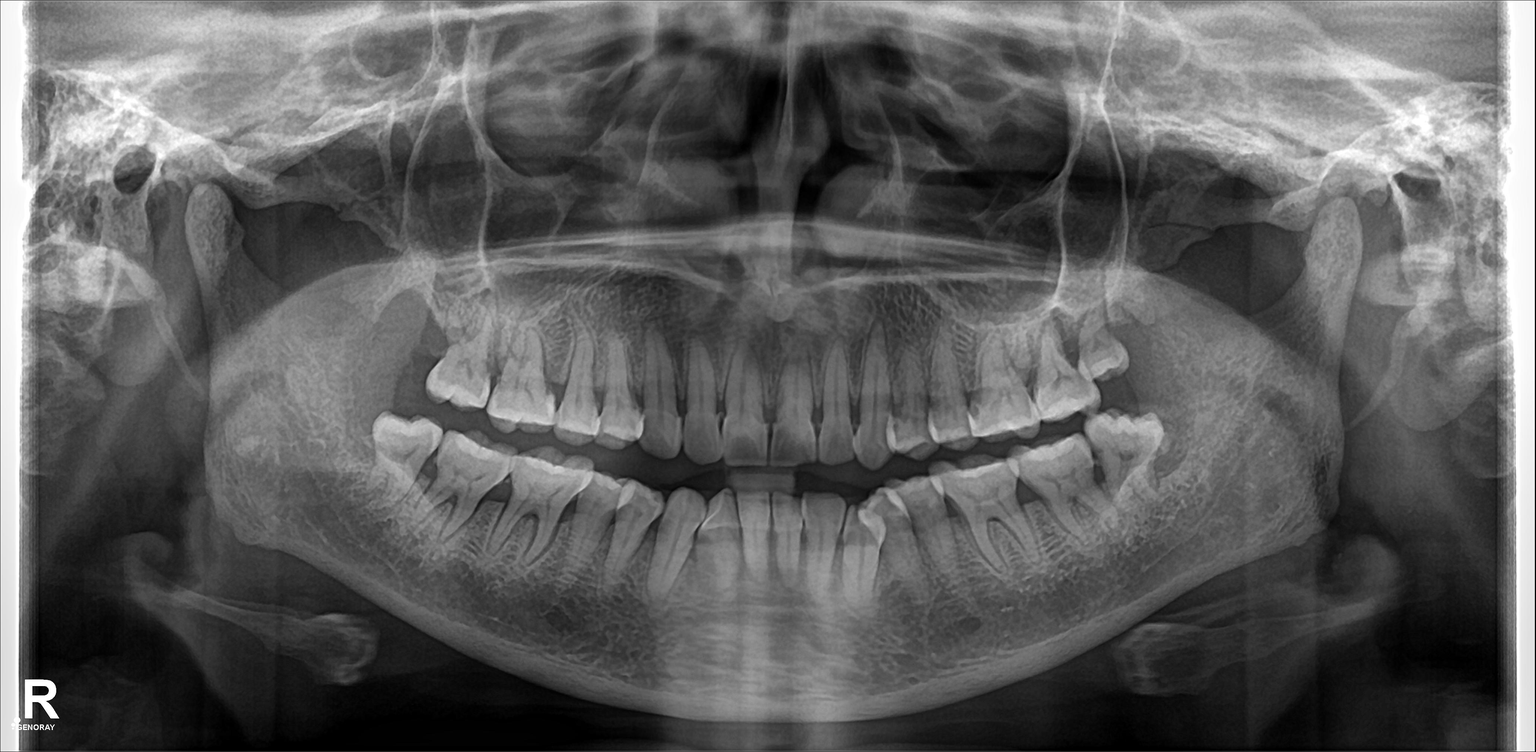Dental Caries: (723, 436, 758, 463)
Impacted Third Molar: (1089, 417, 1165, 505)
Missing Tooth: (389, 294, 439, 405)
